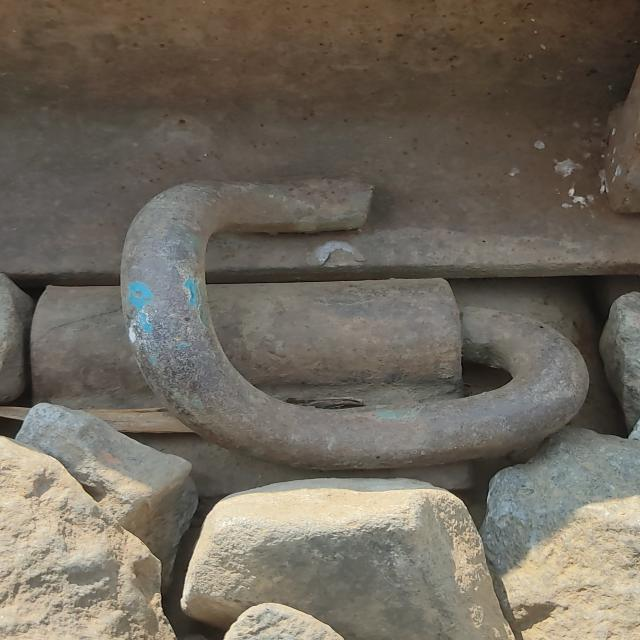track_bolt: (105, 164, 598, 478)
